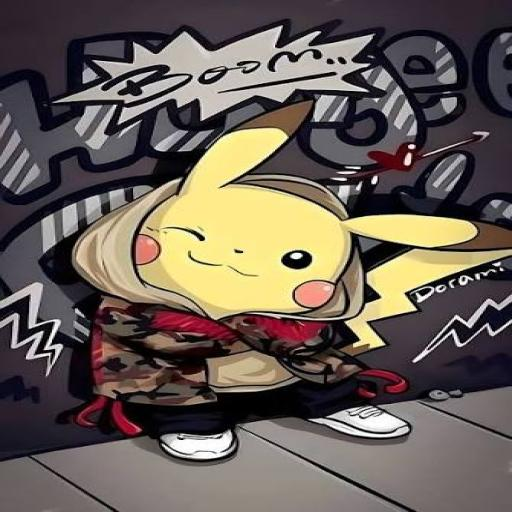Pikachu: (98, 102, 512, 459)
